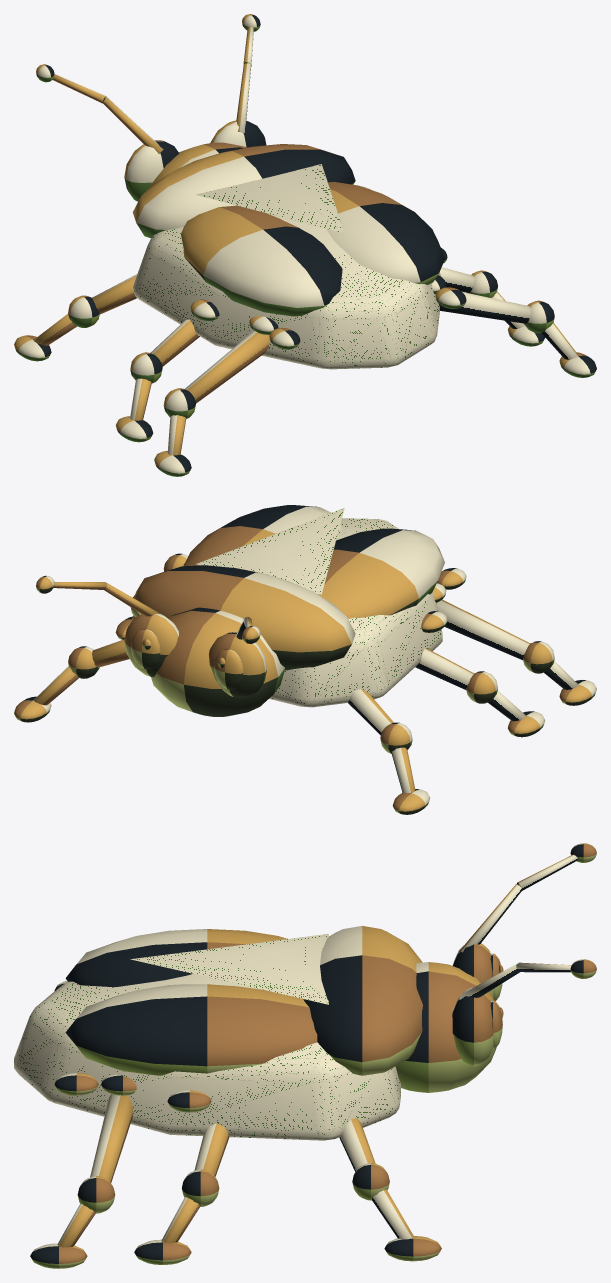
File: StinkBug.fbx
The picture shows the model from 3 angles, top to bottom: view 1: azimuth 30°, elevation 25°; view 2: azimuth 150°, elevation 25°; view 3: azimuth 270°, elevation 25°; orthographic projection. The views are drawn at different scales.
Visible parts, largest first — view 1: StinkBug; view 2: StinkBug; view 3: StinkBug.
Boxes of the visible parts, <box> form: StinkBug: <box>14,14,596,476</box>; StinkBug: <box>14,505,596,814</box>; StinkBug: <box>14,843,596,1268</box>.
Bounding box in the file's own units: 2.61 × 1.24 × 2.63.
1 material, 1 textured.
